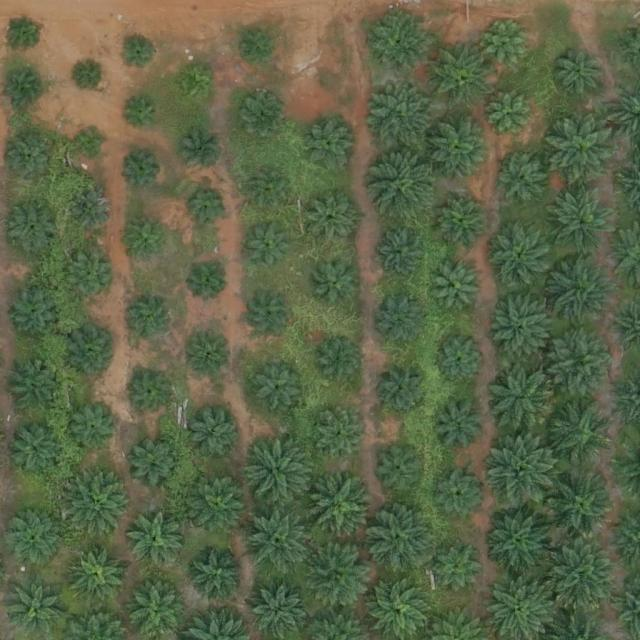Healthy: (372, 150, 443, 221), (485, 436, 556, 507), (369, 83, 439, 154), (548, 112, 618, 183), (551, 187, 622, 257), (547, 255, 618, 325), (547, 329, 617, 400), (549, 472, 619, 543), (548, 541, 618, 612), (487, 365, 557, 436), (485, 505, 555, 576), (304, 540, 374, 611), (242, 436, 312, 507), (365, 503, 435, 573), (303, 474, 373, 544), (242, 507, 312, 577), (369, 13, 432, 76), (430, 44, 493, 107), (430, 119, 493, 182), (549, 402, 612, 465), (189, 474, 251, 537), (68, 472, 130, 535), (491, 224, 553, 286), (493, 295, 555, 357), (2, 508, 64, 570), (254, 362, 309, 418), (553, 47, 608, 103), (185, 406, 240, 462), (9, 288, 64, 343), (8, 362, 63, 417), (434, 465, 489, 520), (314, 408, 369, 463), (192, 549, 247, 604), (126, 436, 181, 491), (129, 514, 184, 569), (10, 585, 65, 640), (431, 540, 485, 595), (70, 548, 124, 603), (10, 423, 64, 478), (306, 121, 353, 169), (381, 229, 428, 277), (380, 300, 427, 348), (439, 200, 486, 247), (436, 265, 483, 312), (502, 158, 549, 205), (377, 447, 424, 494), (71, 408, 118, 455)
Small: (6, 200, 61, 255), (483, 18, 538, 73), (435, 334, 490, 389), (378, 363, 433, 418), (66, 325, 121, 380), (432, 401, 486, 456), (248, 164, 295, 212), (238, 95, 285, 143), (309, 196, 356, 244), (8, 137, 55, 184), (487, 91, 534, 138), (129, 372, 176, 419), (122, 299, 169, 346), (247, 294, 294, 341), (313, 339, 360, 386), (314, 259, 361, 306), (248, 221, 295, 268), (66, 253, 113, 300), (70, 190, 117, 237), (177, 131, 224, 178), (186, 187, 233, 234), (185, 258, 232, 305), (187, 336, 234, 383), (4, 14, 44, 54), (120, 33, 159, 73), (122, 150, 161, 190), (233, 28, 273, 67), (5, 70, 44, 109), (122, 96, 161, 135), (128, 220, 167, 259), (176, 67, 215, 106), (76, 61, 107, 93), (76, 127, 107, 159)
